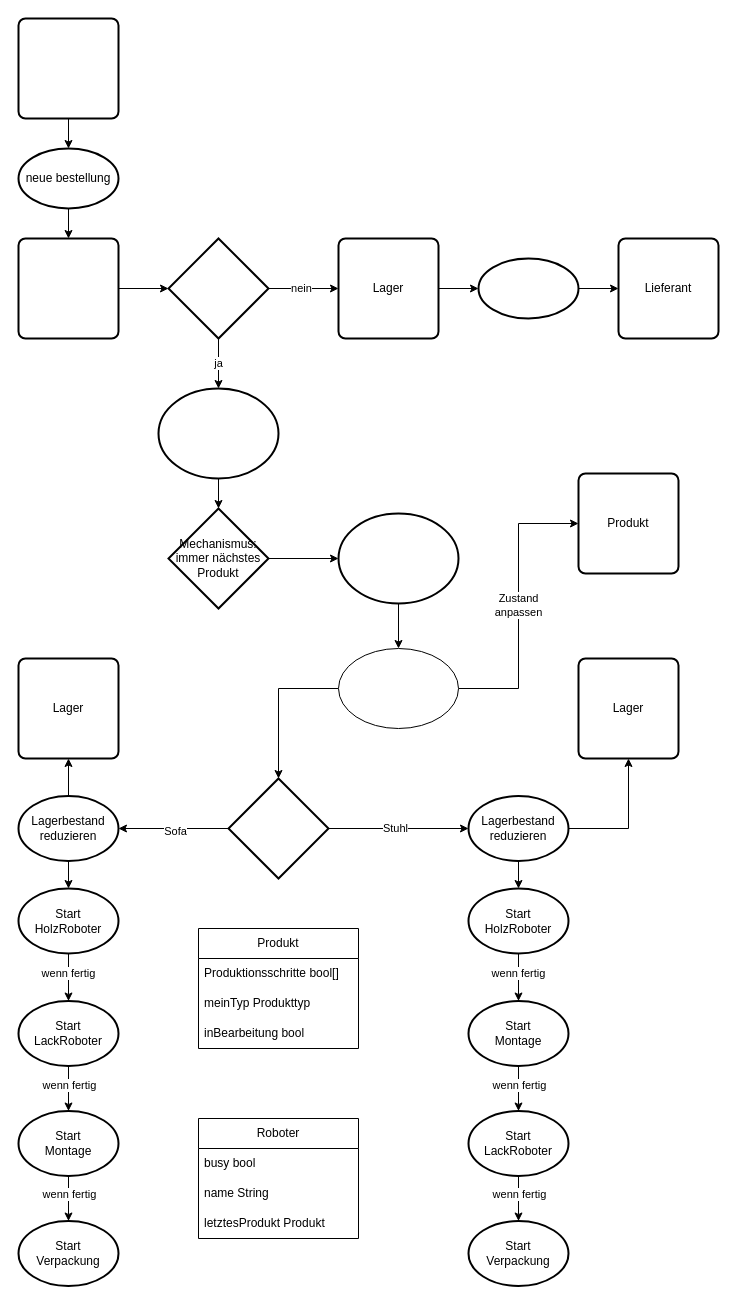
The diagram is 736 pixels wide and 1304 high, and some of its shapes have lost their labels. The centre of each missing label's shape, as x and y in pixels:
Element "inProduktion" ?: [278,828]
Fabrik: [68,68]
genug im Lager?: [218,288]
Lager füllen: [528,288]
neue Produkte in Liste "ProdukteIn Produktion": [398,688]
neues Element in Liste "Bestellungen inProduktion": [398,558]
neues Element in Liste "Bestellungen zuProduzieren": [218,433]
Produktions-manager: [68,288]
